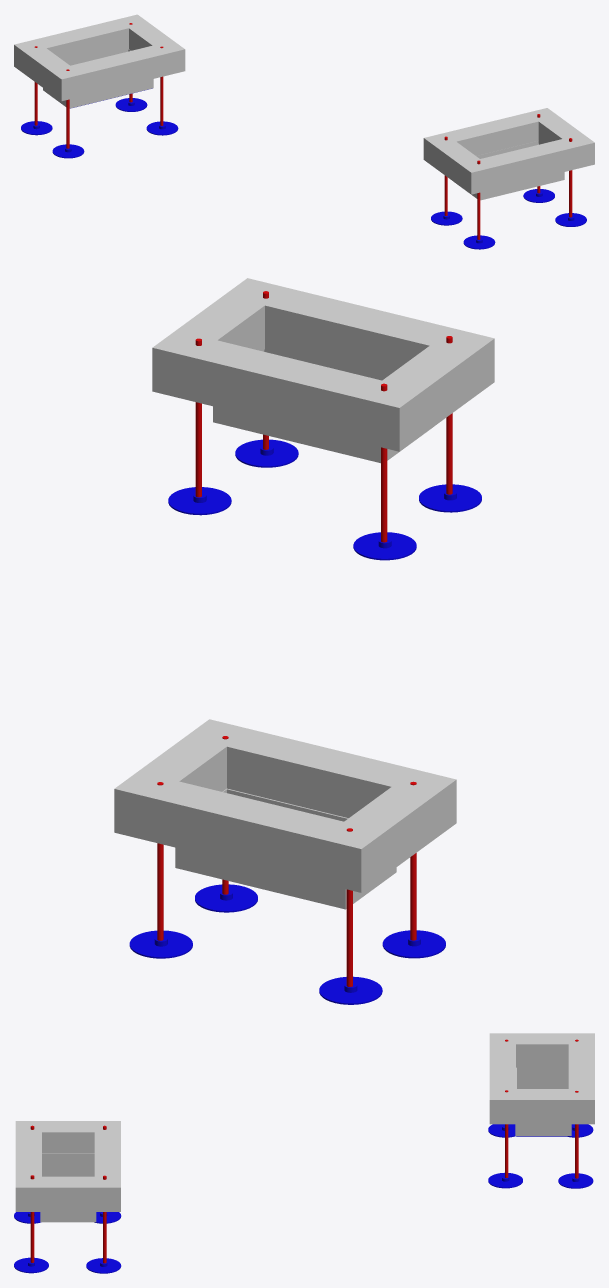
File: binrect3.fbx
3 views of the same model, one above another, from view 1: azimuth 30°, elevation 25°; view 2: azimuth 150°, elevation 25°; view 3: azimuth 270°, elevation 25° (orthographic). The views are drawn at different scales.
Parts seen in each view (by area): view 1: Cylinder.002, Cylinder.001; view 2: Cylinder.002, Cylinder.001; view 3: Cylinder.002, Cylinder.001.
Part boxes in pixels (box(x1,y1,x2,y2)): Cylinder.002: box(14, 14, 185, 158); Cylinder.001: box(423, 108, 594, 249); Cylinder.002: box(114, 719, 456, 1004); Cylinder.001: box(152, 278, 494, 560); Cylinder.002: box(488, 1033, 594, 1188); Cylinder.001: box(14, 1121, 121, 1273).
Bounding box in the file's own units: 232 × 69.08 × 331.
